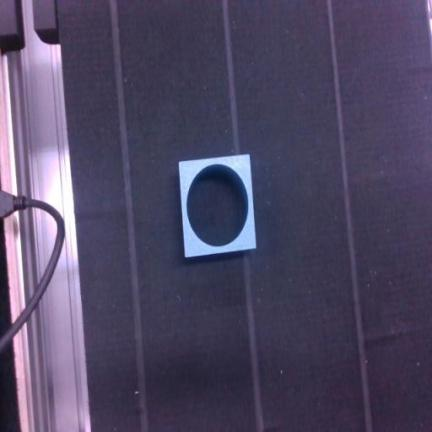square: (179, 155, 255, 257)
